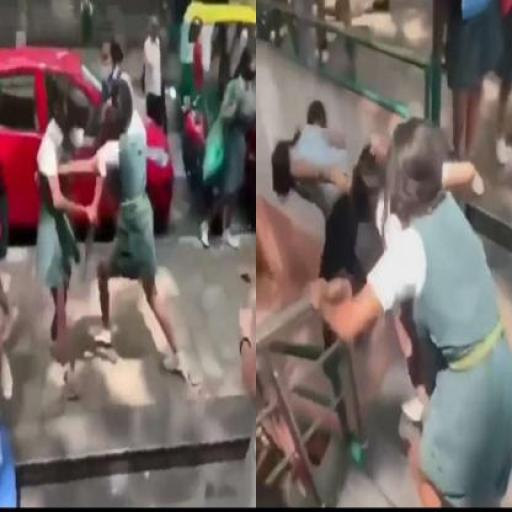Fighting: (269, 80, 512, 500), (36, 65, 184, 376)
